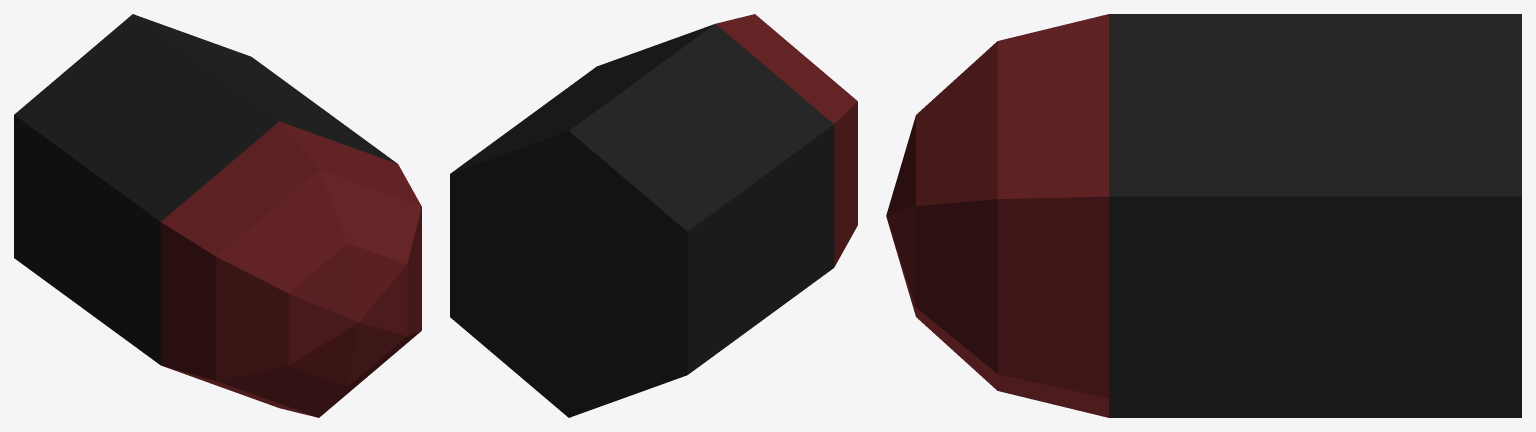
Rendered from Rocket.fbx.
The picture shows the model from 3 angles, left to right: view 1: azimuth 30°, elevation 25°; view 2: azimuth 150°, elevation 25°; view 3: azimuth 270°, elevation 25°; orthographic projection. The views are drawn at different scales.
Parts seen in each view (by area): view 1: Rocket; view 2: Rocket; view 3: Rocket.
Part boxes in pixels (x1,y1,x2,y2): Rocket: [14, 14, 421, 417]; Rocket: [450, 14, 857, 417]; Rocket: [886, 14, 1521, 417].
Size of the model in its own units: 0.1957 by 0.226 by 0.3223.
